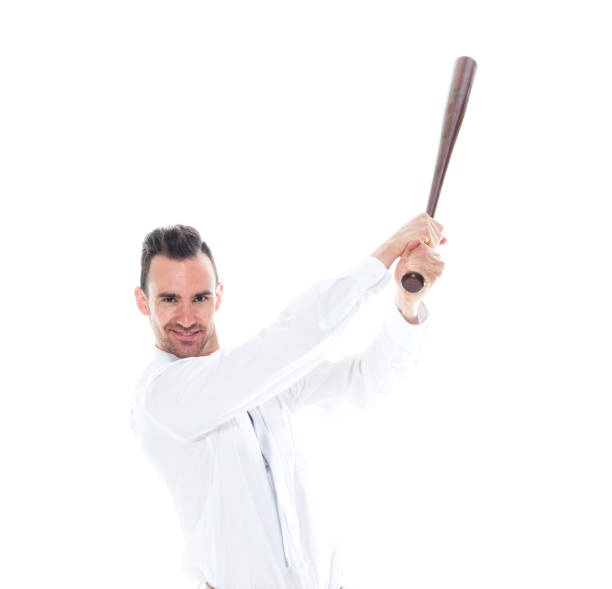bita: (398, 55, 472, 293)
